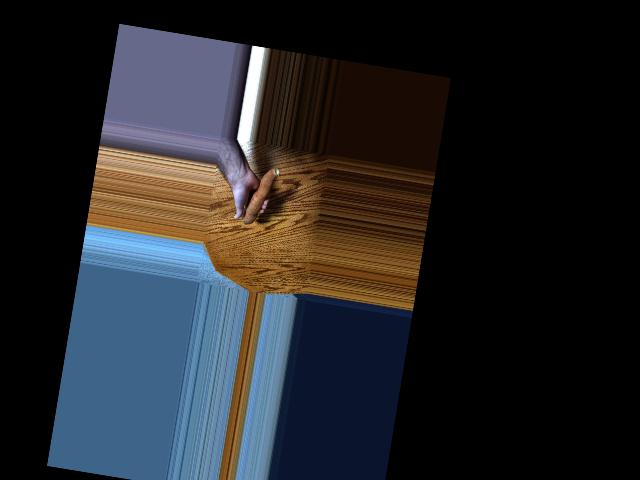sweet_potato: (241, 162, 279, 228)
